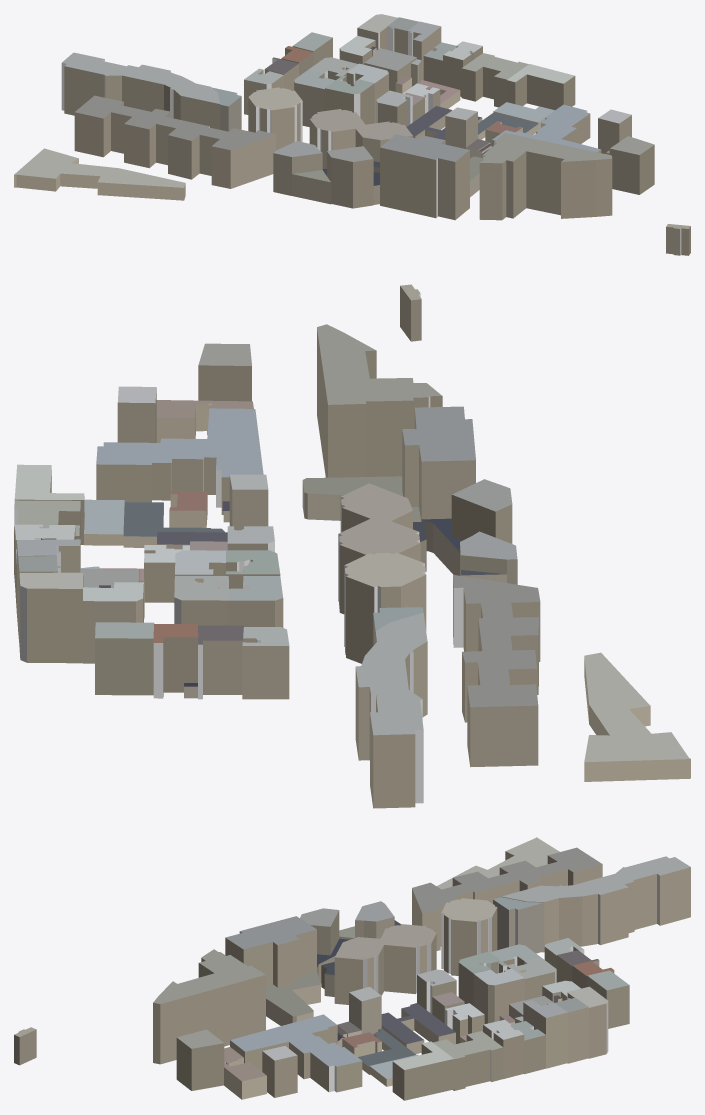
3 renders of one model, top to bottom at view 1: azimuth 30°, elevation 25°; view 2: azimuth 150°, elevation 25°; view 3: azimuth 270°, elevation 25°, orthographic. The views are drawn at different scales.
Parts seen in each view (by area): view 1: tuile; view 2: tuile; view 3: tuile.
Part boxes in pixels (x1,y1,x2,y2): tuile: (14, 14, 690, 255); tuile: (14, 284, 690, 808); tuile: (14, 837, 690, 1100).
Bounding box in the file's own units: 259 × 30.51 × 288.
